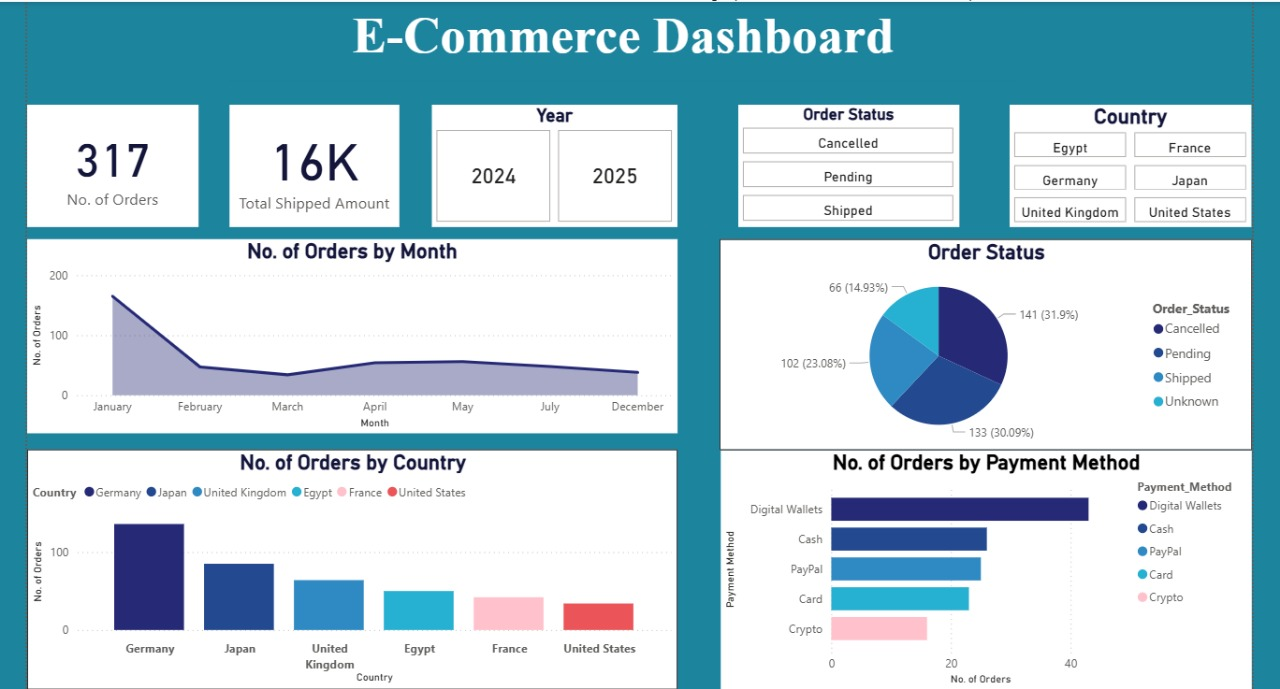

This screenshot's page, from the dashboard's own definition file:
{"tool":"powerbi","page":{"name":"Dashboard","canvas":[1280,720],"ordinal":0},"visuals":[{"type":"columnChart","title":"No. of Orders by Country","fields":{"Y":["CountNonNull(Orders__2.Order_Id)"],"Category":["Cleaned_Customers.Country"],"Series":["Cleaned_Customers.Country"]},"box":[0,468.9,680,251.1],"z":0},{"type":"areaChart","title":"No. of Orders by Month","fields":{"Y":["CountNonNull(Orders__2.Order_Id)"],"Category":["Orders__2.Order_Date.Variation.Date Hierarchy.Month"]},"box":[0,247.8,680,203.3],"z":1000},{"type":"barChart","title":"No. of Orders by Payment Method","fields":{"Category":["Payments__2.Payment_Method"],"Y":["CountNonNull(Payments__2.Order_Id)"],"Series":["Payments__2.Payment_Method"]},"box":[724.7,469.1,555.6,250.6],"z":2000},{"type":"pieChart","title":"Order Status","fields":{"Category":["Orders__2.Order_Status"],"Y":["CountNonNull(Orders__2.Order_Status)"]},"box":[723.5,248.1,556.8,221],"z":3000},{"type":"advancedSlicerVisual","title":"Country","fields":{"Values":["Cleaned_Customers.Country"]},"box":[1027.2,107.4,253.1,128.4],"z":4000},{"type":"advancedSlicerVisual","title":"Order Status","fields":{"Values":["Orders__2.Order_Status"]},"box":[743.2,107.4,230.9,128.4],"z":5000},{"type":"card","fields":{"Values":["Orders__2.Measure 3"]},"box":[0,107.8,178.9,127.8],"z":6000},{"type":"card","fields":{"Values":["Orders__2.Measure 3"]},"box":[211.1,107.8,177.8,127.8],"z":7000},{"type":"advancedSlicerVisual","fields":{"Values":["Orders__2.Order_Date.Variation.Date Hierarchy.Year"]},"box":[423.3,107.8,256.7,127.8],"z":8000},{"type":"textbox","box":[211.1,0,823.5,82.7],"z":9000}]}

Visuals, with their boxes in screenshot pixels (x1, y1, x2, y2):
"No. of Orders by Country" columnChart: left=33, top=446, right=676, bottom=684
"No. of Orders by Month" areaChart: left=33, top=238, right=676, bottom=430
"No. of Orders by Payment Method" barChart: left=718, top=447, right=1243, bottom=684
"Order Status" pieChart: left=717, top=238, right=1243, bottom=447
"Country" advancedSlicerVisual: left=1004, top=105, right=1243, bottom=226
"Order Status" advancedSlicerVisual: left=736, top=105, right=954, bottom=226
card - Orders__2.Measure 3: left=33, top=105, right=202, bottom=226
card - Orders__2.Measure 3: left=233, top=105, right=401, bottom=226
advancedSlicerVisual - Orders__2.Order_Date.Variation.Date Hierarchy.Year: left=433, top=105, right=676, bottom=226
textbox: left=233, top=3, right=1011, bottom=81
